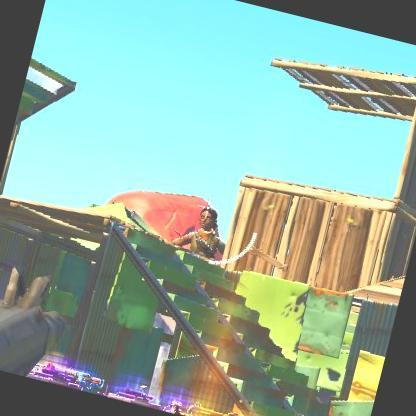person: (168, 200, 235, 262)
